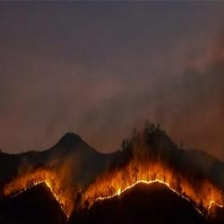fire: (6, 167, 224, 219)
smoke: (104, 39, 224, 130)
